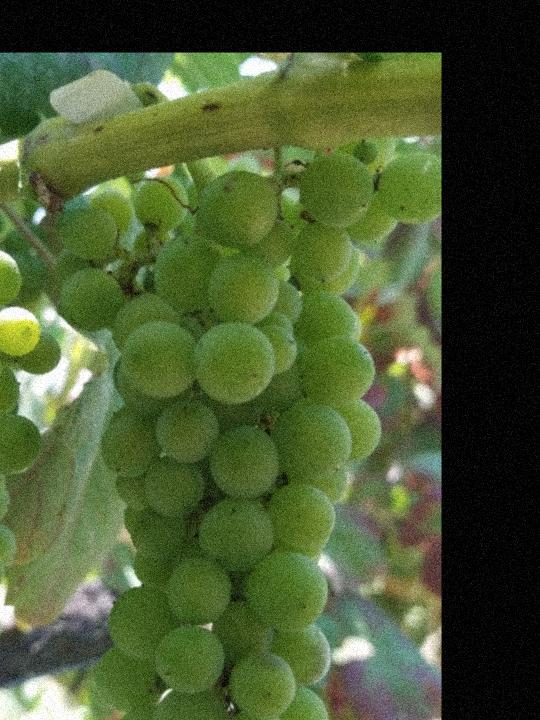grape: (51, 138, 457, 720), (0, 242, 67, 720)
